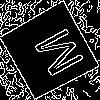M: (24, 25, 85, 84)
